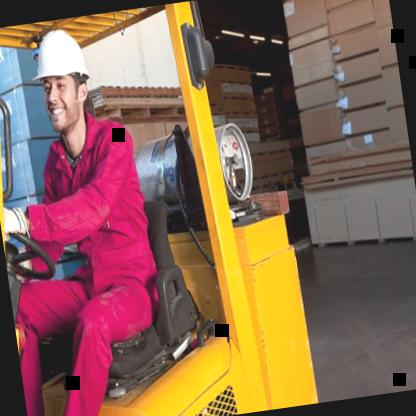helmet: (22, 18, 106, 144)
